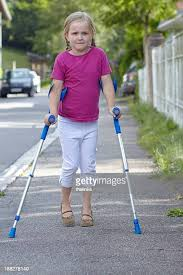crutches: (7, 11, 141, 238)
